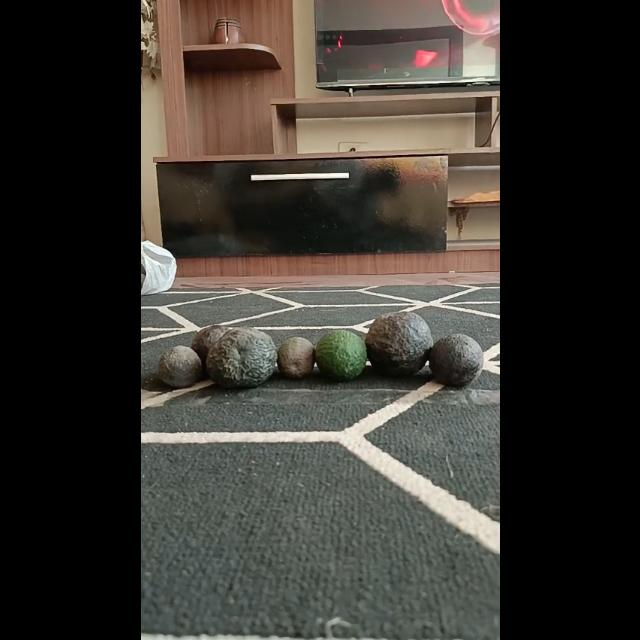Primera: (364, 310, 432, 376), (206, 328, 278, 388)
Segunda: (429, 333, 483, 387), (314, 330, 366, 380)
Tercera: (158, 344, 202, 388), (276, 336, 314, 378)
